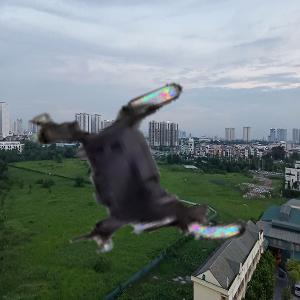drone: (32, 71, 245, 284)
